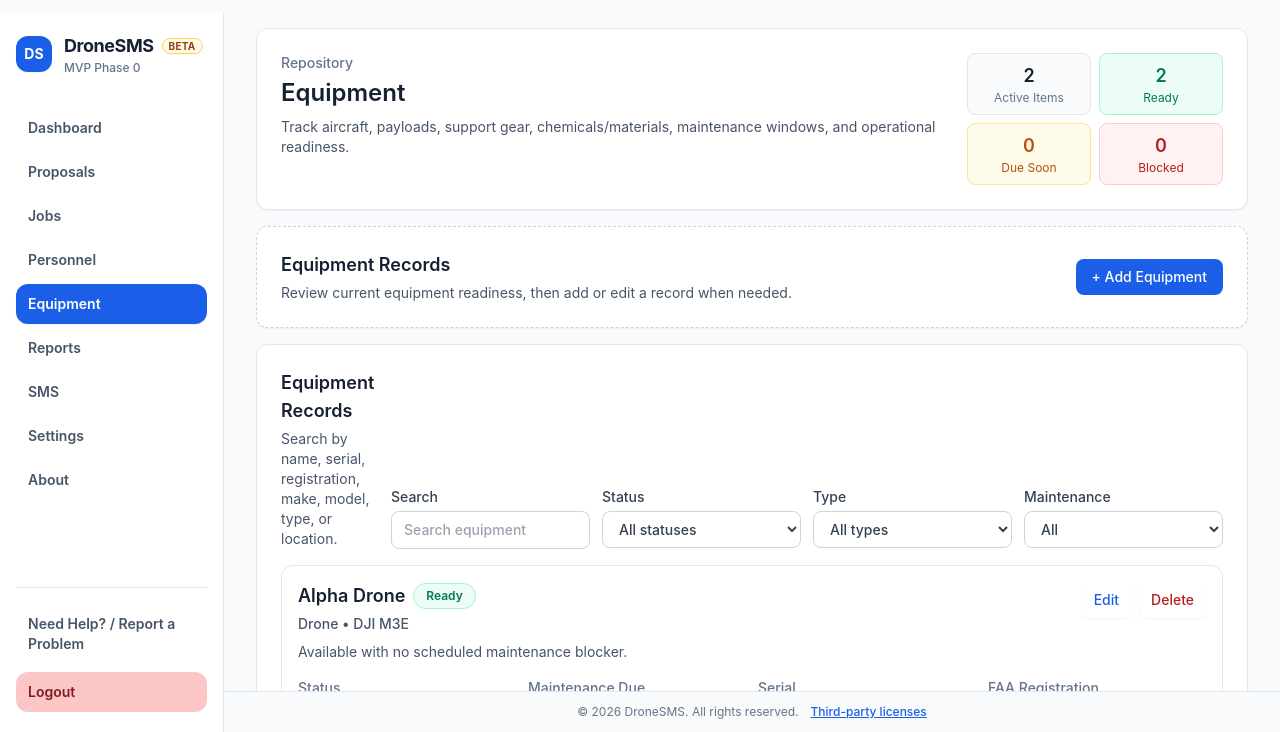
Test case: Equipment inline editing › keeps validation inside the inline form
Expected: the heading "Alpha Drone" is shown, [298, 582, 405, 610]
Click the button "Edit" at (1106, 600), box [1082, 582, 1131, 618]
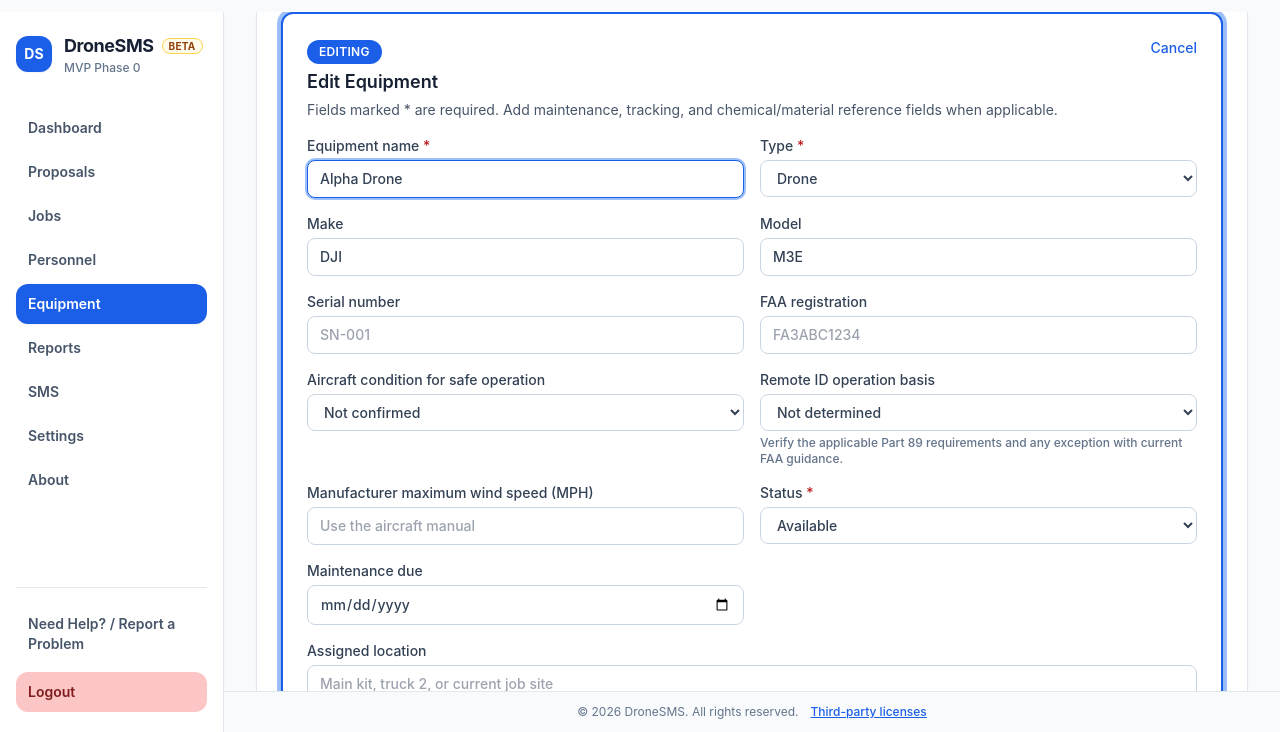
Clear the field labelled "Equipment name" at (526, 179), box [307, 160, 744, 198]
(page scrolled)
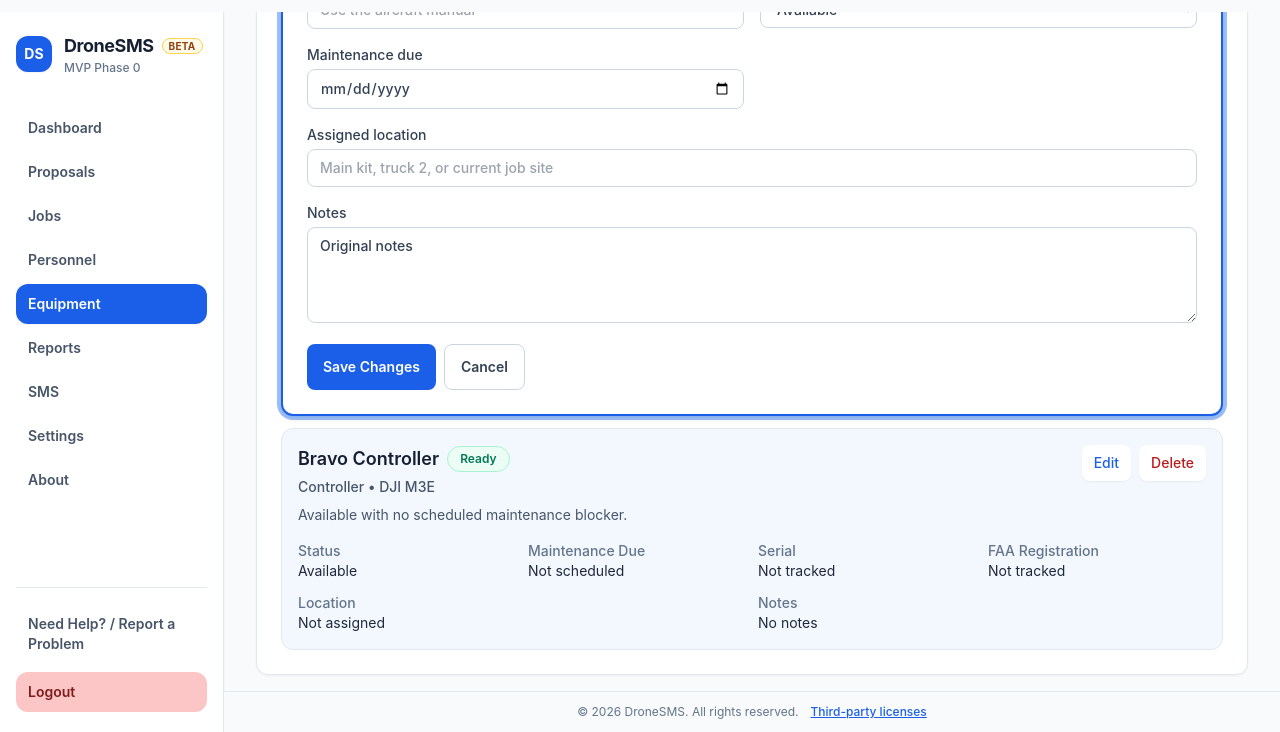
Click the button "Save Changes" at (371, 367), box [307, 344, 436, 390]
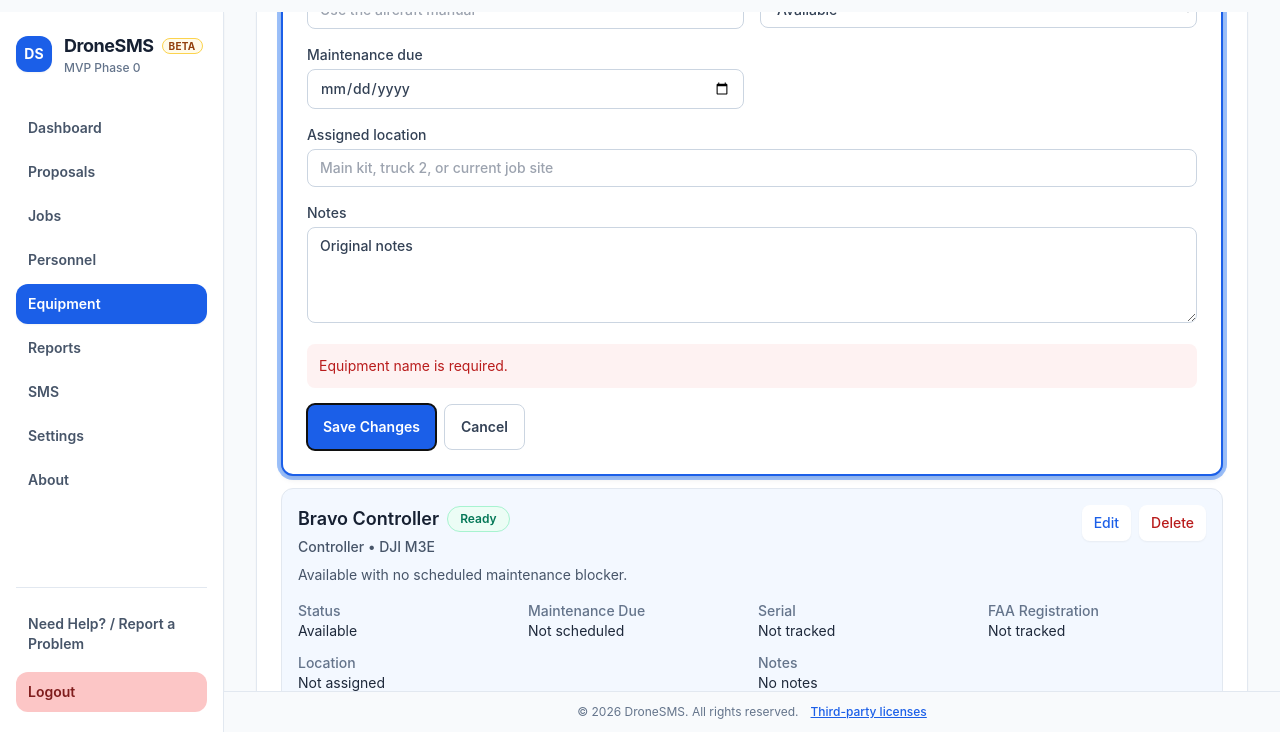
Expected: the text "Equipment name is required." is shown, [307, 344, 1197, 388]
